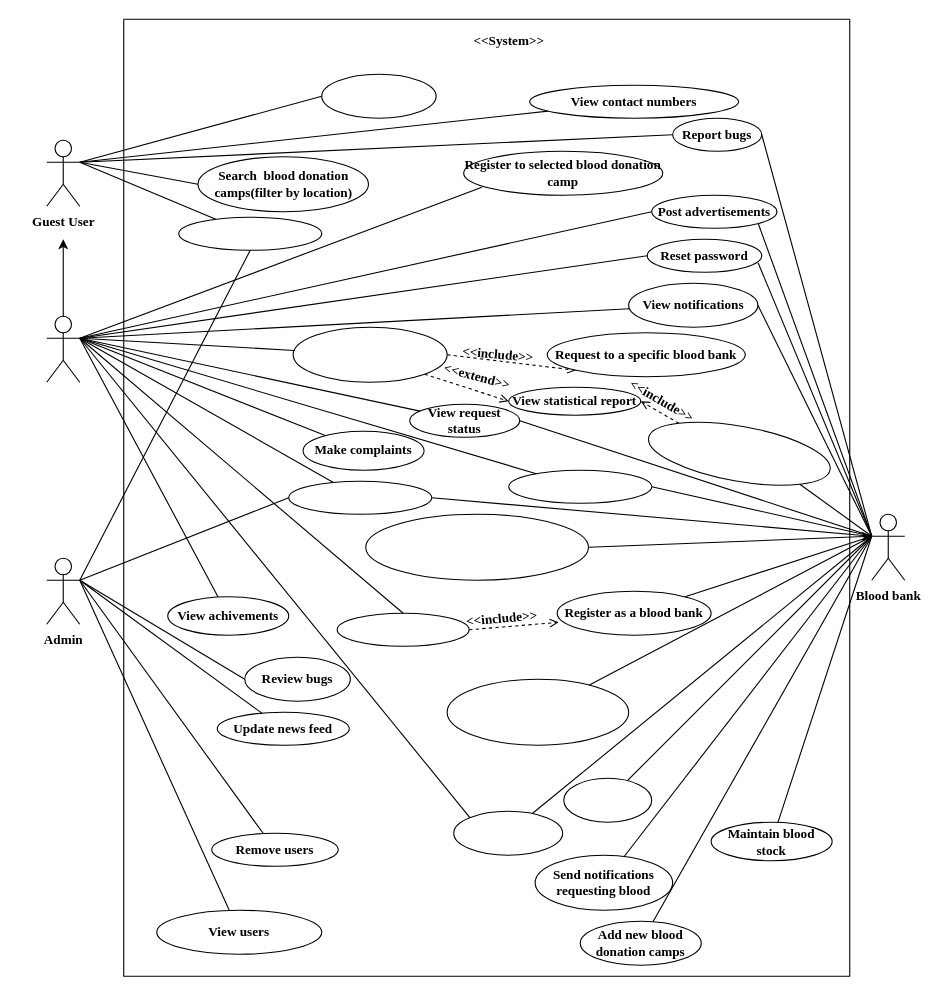
This 939x996 diagram has some shape labels left out. The centre of each missing label's shape, as x and y in pixels:
Approve/reject requests to organize blood donation camps: (x=476, y=546)
Delete advertisements: (x=508, y=832)
Edit details about blood donation camps assigned to it: (x=537, y=711)
Enter details about blood donation camp which is held: (x=739, y=453)
Login: (x=360, y=497)
Registered User: (x=63, y=348)
Request to organize a blood donation camp: (x=369, y=354)
Review complaints: (x=607, y=799)
Sign up: (x=402, y=629)
Update profile: (x=580, y=486)
View advertisements: (x=250, y=233)
View blood banks: (x=378, y=95)
